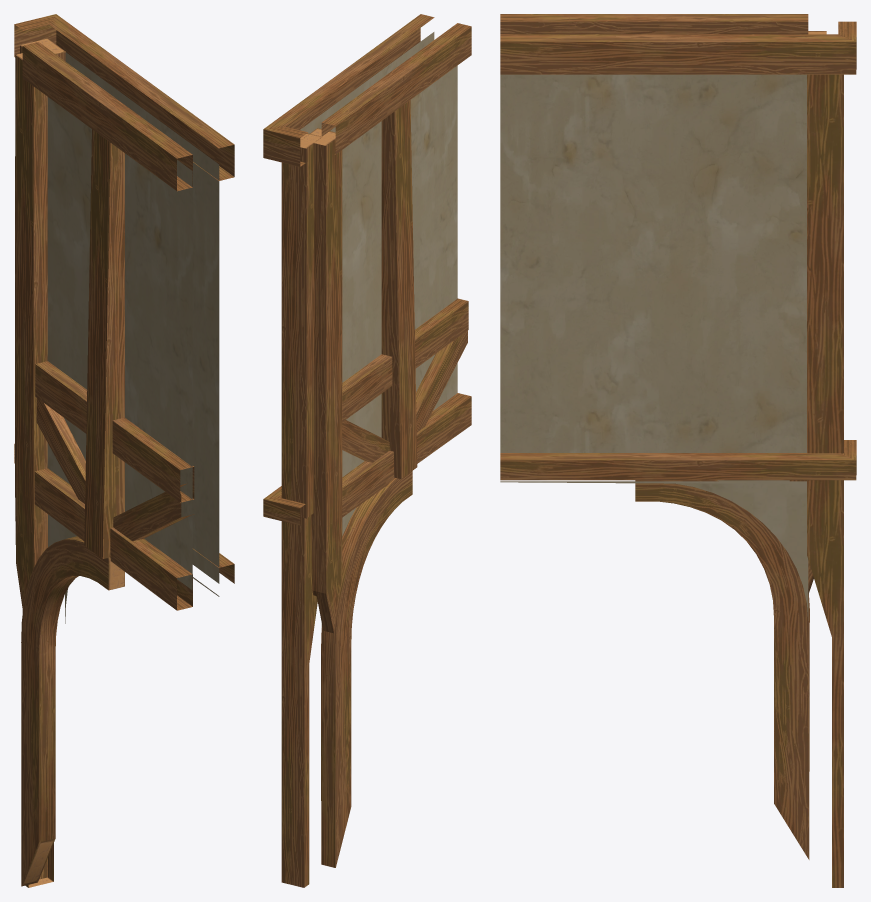
The model's file is Overhang_Side_Plaster_Long_L.gltf.
3 renders of one model, left to right at view 1: azimuth 30°, elevation 25°; view 2: azimuth 150°, elevation 25°; view 3: azimuth 270°, elevation 25°, orthographic. The views are drawn at different scales.
Visible parts, largest first — view 1: Overhang_Side_Plaster_Long_L; view 2: Overhang_Side_Plaster_Long_L; view 3: Overhang_Side_Plaster_Long_L.
Boxes of the visible parts, x1=… form: Overhang_Side_Plaster_Long_L: x1=14, y1=14, x2=234, y2=887; Overhang_Side_Plaster_Long_L: x1=263, y1=14, x2=471, y2=887; Overhang_Side_Plaster_Long_L: x1=500, y1=14, x2=856, y2=887.
Size of the model in its own units: 0.4793 by 6.12 by 2.31.
2 materials, 2 textured.
